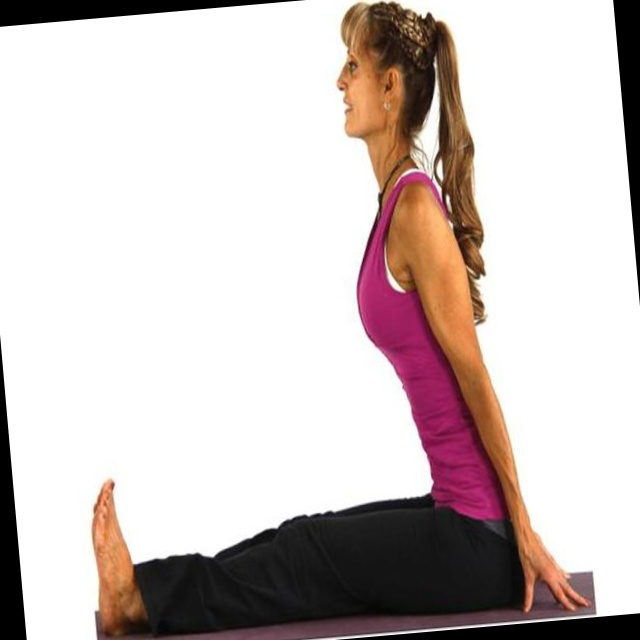Staff_Pose: (88, 4, 590, 626)
